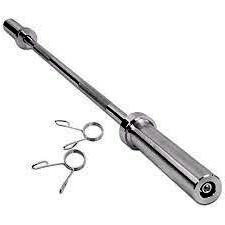Barbell: (187, 173, 222, 207)
